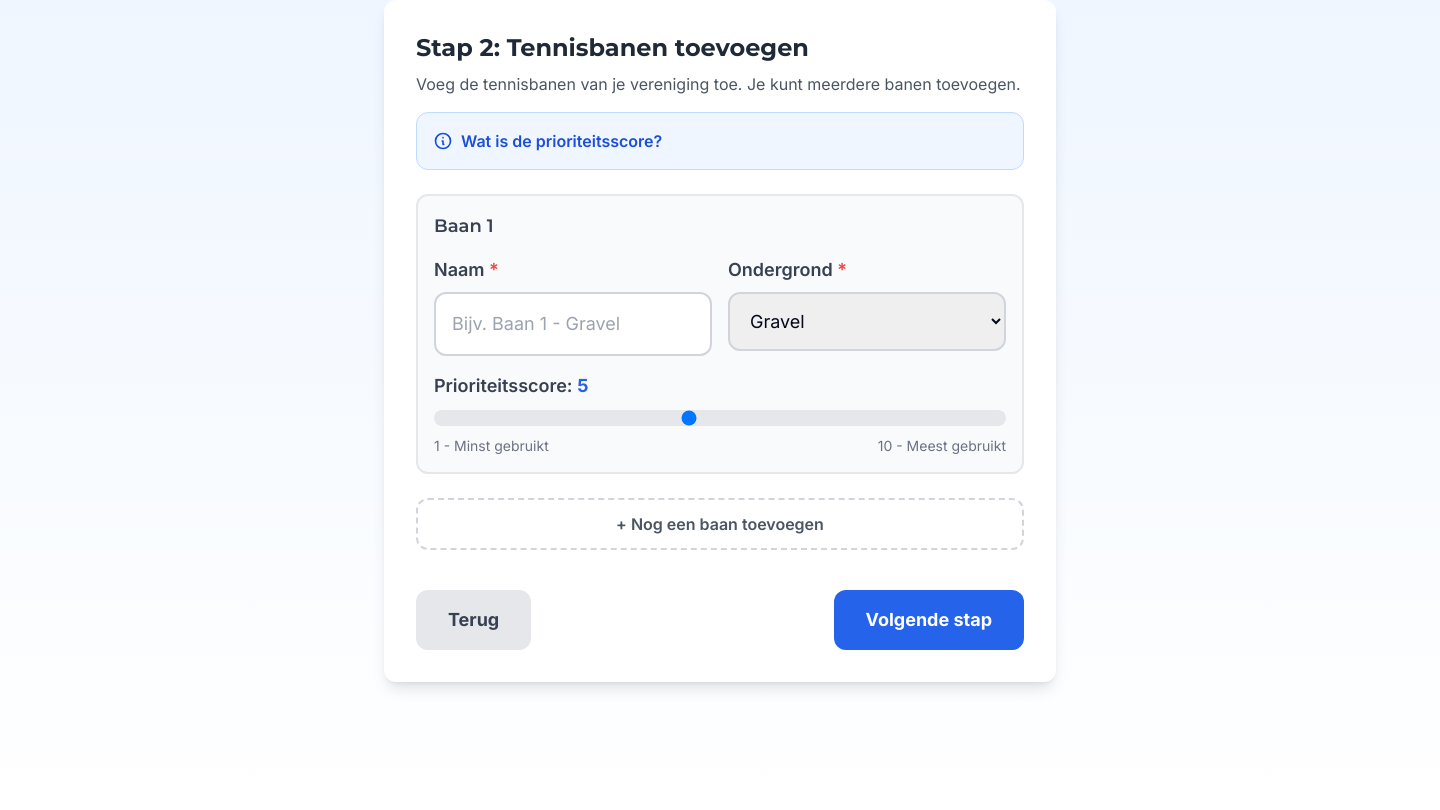
Test case: CourtsStep › Validation › should show error when court name is empty on submit
Click the button "Volgende stap": click(929, 620) [834, 590, 1024, 650]
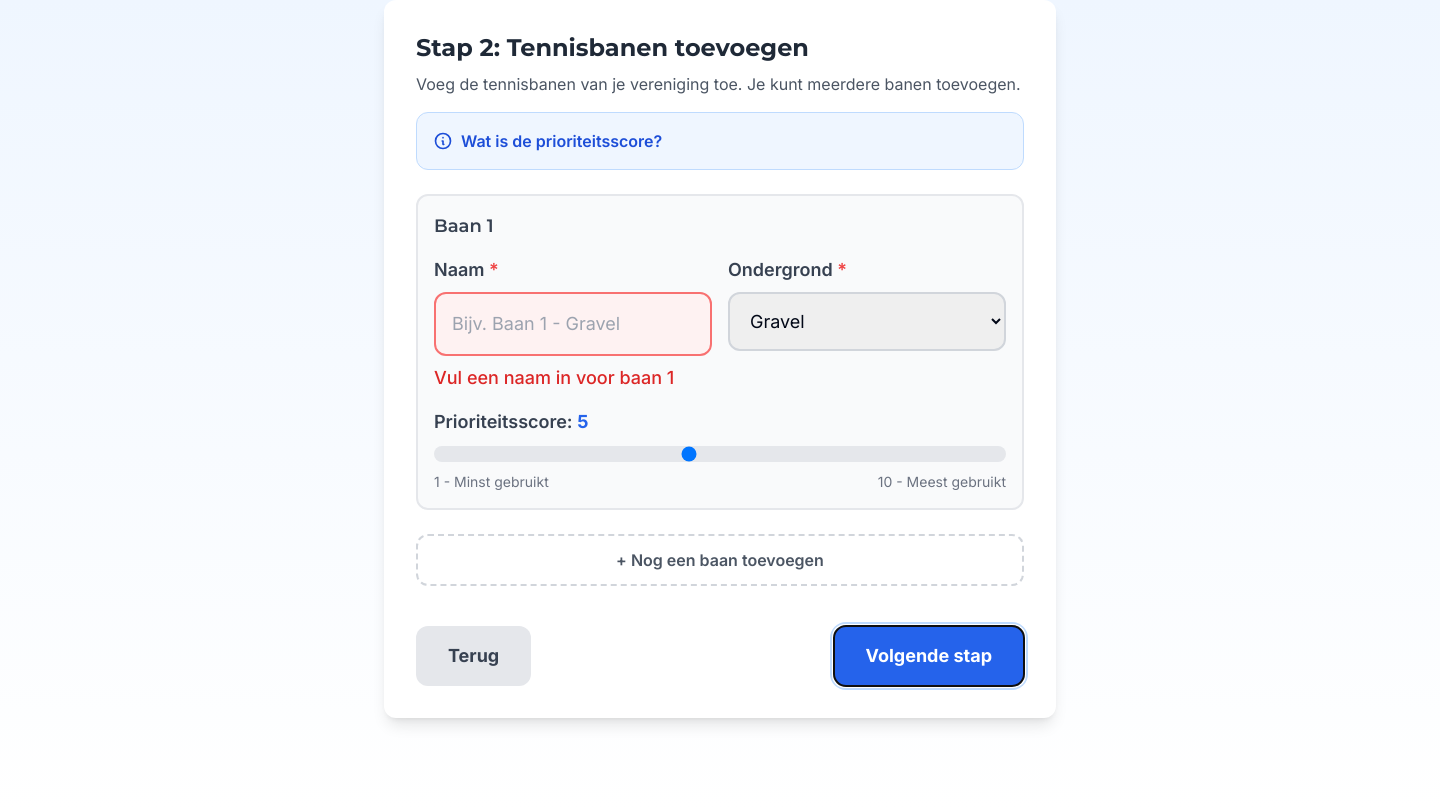
Now the text "Vul een naam in voor baan 1" is shown, box [434, 364, 712, 392]
